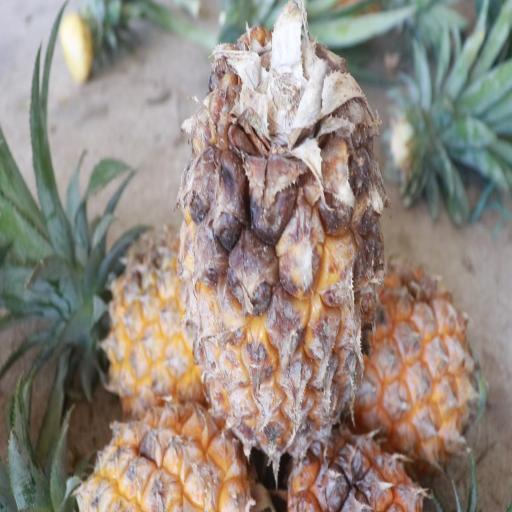Pineapple - v8 v1: (170, 2, 384, 465), (314, 257, 475, 494), (73, 212, 249, 428), (58, 385, 273, 512)
